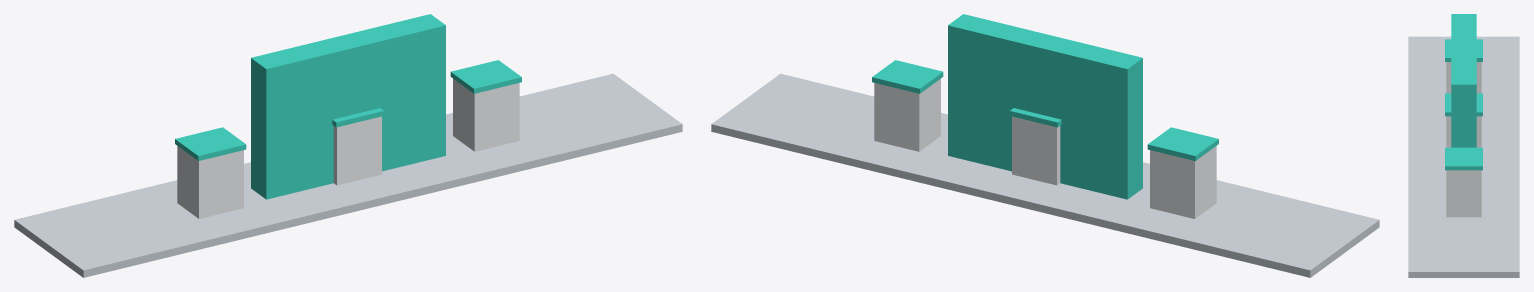
The picture shows the model from 3 angles, left to right: view 1: azimuth 30°, elevation 25°; view 2: azimuth 150°, elevation 25°; view 3: azimuth 270°, elevation 25°; orthographic projection. The views are drawn at different scales.
Parts seen in each view (by area): view 1: Exhibition Booth Concept; view 2: Exhibition Booth Concept; view 3: Exhibition Booth Concept.
Boxes of the visible parts, x1=… form: Exhibition Booth Concept: x1=14, y1=14, x2=682, y2=277; Exhibition Booth Concept: x1=711, y1=14, x2=1379, y2=277; Exhibition Booth Concept: x1=1408, y1=14, x2=1519, y2=277.
Size of the model in its own units: 10 by 2.2 by 2.
